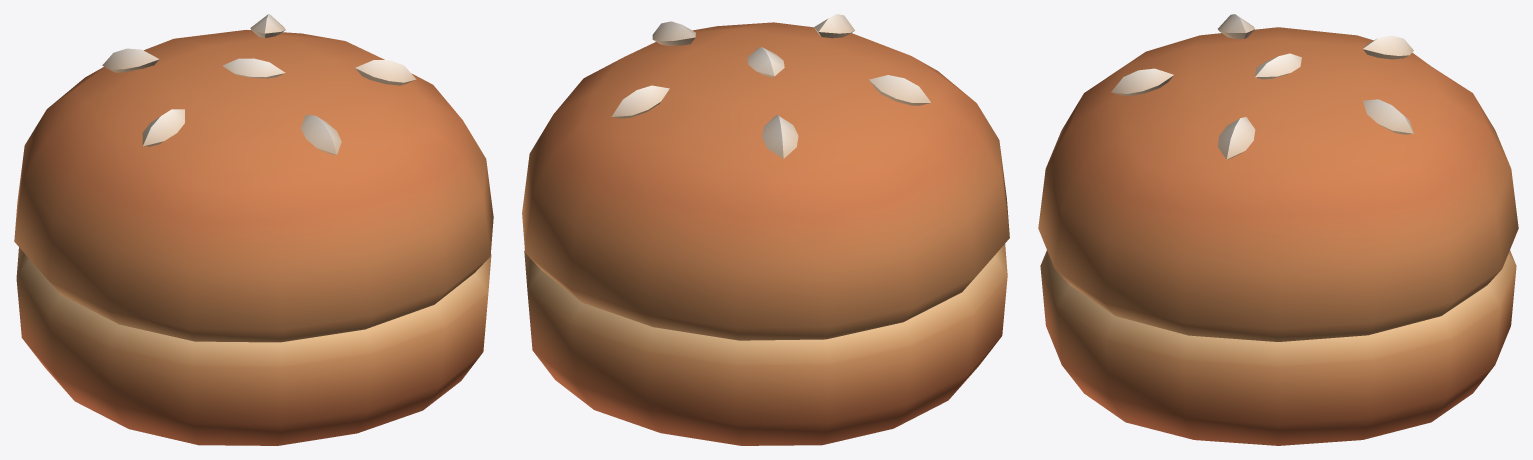
The model's file is ing_bun.glb.
The picture shows the model from 3 angles, left to right: view 1: azimuth 30°, elevation 25°; view 2: azimuth 150°, elevation 25°; view 3: azimuth 270°, elevation 25°; orthographic projection.
Parts seen in each view (by area): view 1: food_ingredient_bun_Cube.015; view 2: food_ingredient_bun_Cube.015; view 3: food_ingredient_bun_Cube.015.
Boxes of the visible parts, x1,y1,x2,y2 form: food_ingredient_bun_Cube.015: (14, 14, 493, 445); food_ingredient_bun_Cube.015: (522, 14, 1009, 445); food_ingredient_bun_Cube.015: (1038, 14, 1518, 445).
Bounding box in the file's own units: 0.7 × 0.5072 × 0.7.
1 material, 1 textured.
